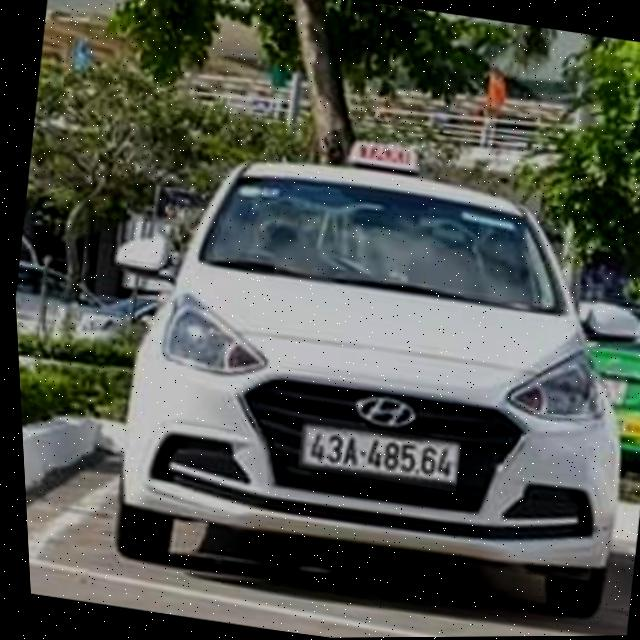car: (59, 124, 640, 639)
plate: (290, 413, 471, 496)
